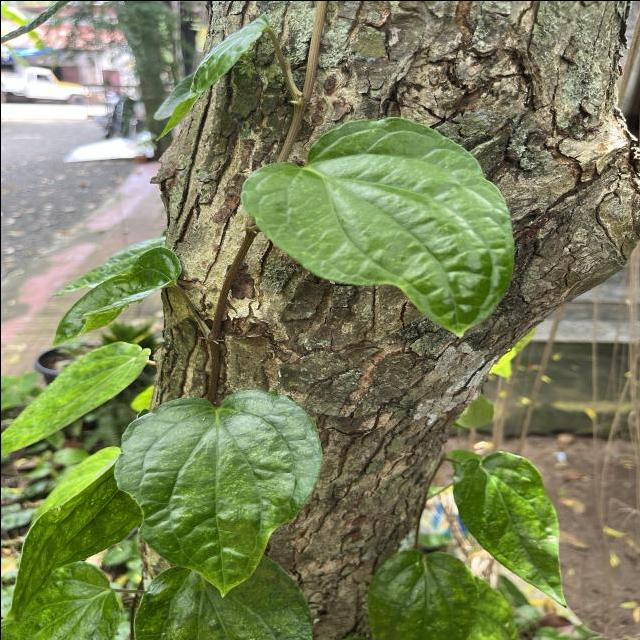Piper betle: (110, 387, 325, 600)
